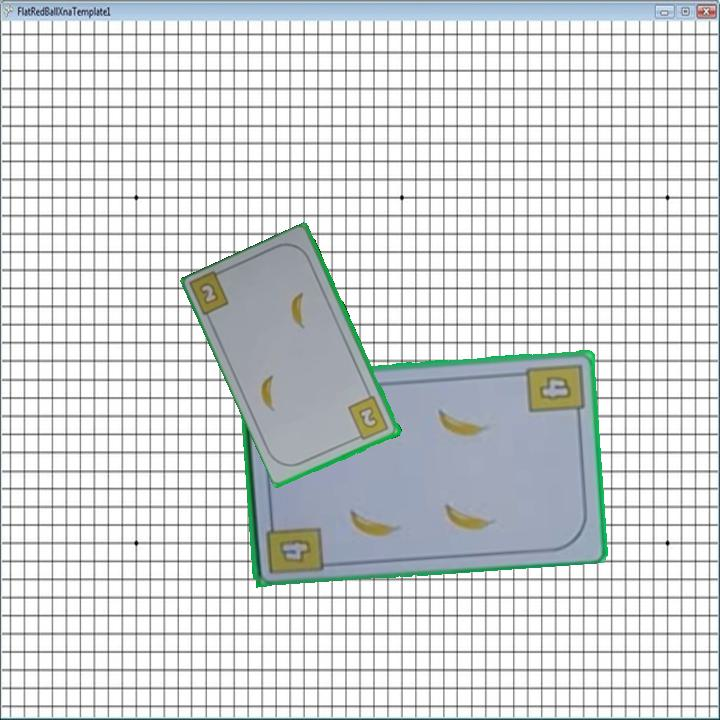2b: (345, 393, 392, 443), (198, 281, 219, 305)
4b: (523, 359, 587, 423), (262, 512, 325, 577)
